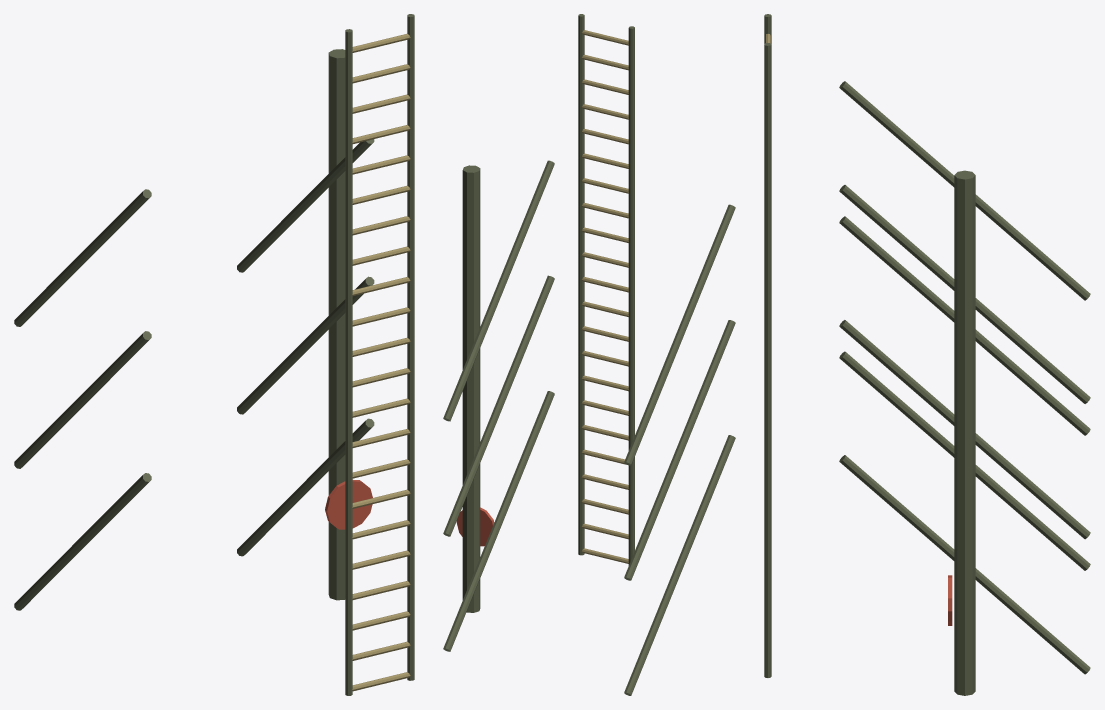
Rendered from detail_water_tower.obj.
The picture shows the model from 3 angles, left to right: view 1: azimuth 30°, elevation 25°; view 2: azimuth 150°, elevation 25°; view 3: azimuth 270°, elevation 25°; orthographic projection. The views are drawn at different scales.
Parts seen in each view (by area): view 1: detail_water_tower; view 2: detail_water_tower; view 3: detail_water_tower.
Part boxes in pixels (box(x1,y1,x2,y2)): detail_water_tower: box(14, 14, 414, 695); detail_water_tower: box(443, 14, 735, 695); detail_water_tower: box(764, 14, 1090, 695).
Bounding box in the file's own units: 2.96 × 6.55 × 3.07.
Materials: 1 (1 with a texture image).
